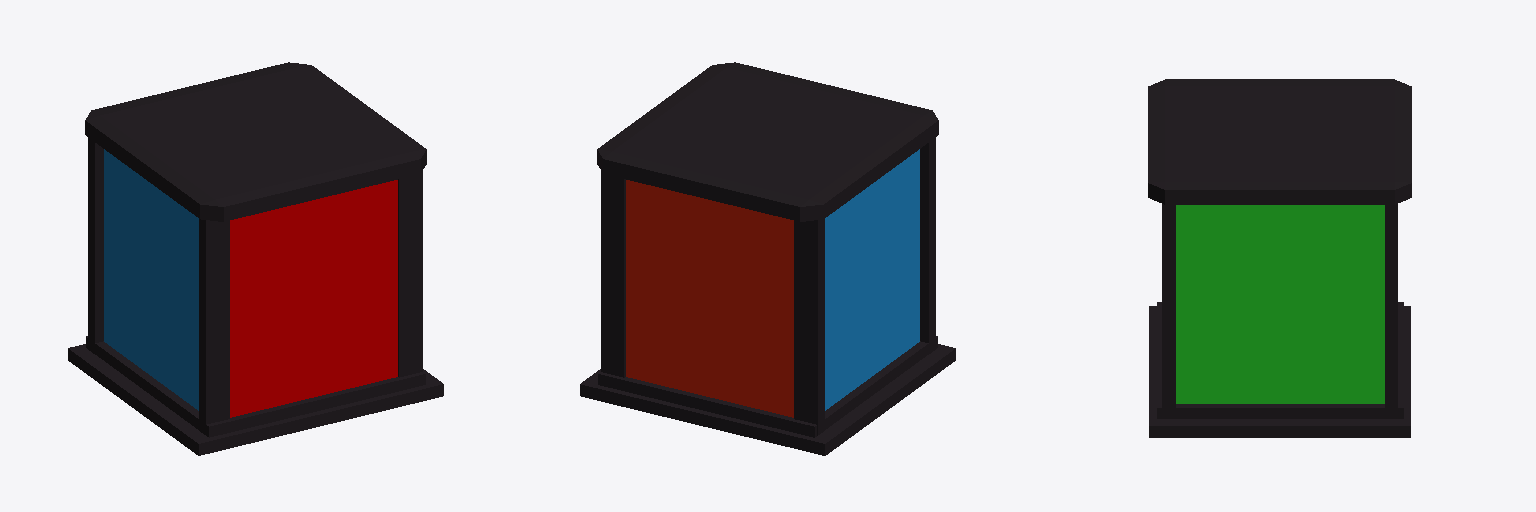
File: weelllllll.obj
3 renders of one model, left to right at view 1: azimuth 30°, elevation 25°; view 2: azimuth 150°, elevation 25°; view 3: azimuth 270°, elevation 25°, orthographic.
Visible parts, largest first — view 1: Cube.006_Cube.007, Cube_Cube.001; view 2: Cube.006_Cube.007, Cube_Cube.001; view 3: Cube.006_Cube.007, Cube_Cube.001.
Part boxes in pixels (left/top/right/bottom): Cube.006_Cube.007: left=68, top=62, right=443, bottom=455; Cube_Cube.001: left=104, top=149, right=397, bottom=417; Cube.006_Cube.007: left=580, top=62, right=955, bottom=455; Cube_Cube.001: left=626, top=149, right=919, bottom=417; Cube.006_Cube.007: left=1148, top=79, right=1411, bottom=437; Cube_Cube.001: left=1176, top=205, right=1384, bottom=403.
Bounding box in the file's own units: 2.5 × 2.38 × 2.33.